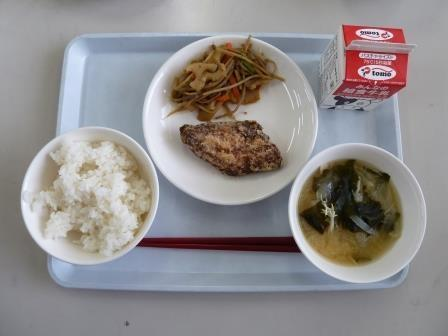Milk: (312, 13, 413, 118)
Rice: (22, 132, 163, 257)
Soups: (293, 134, 431, 283)
cutlet: (164, 113, 289, 187)
pasta: (160, 40, 271, 122)
